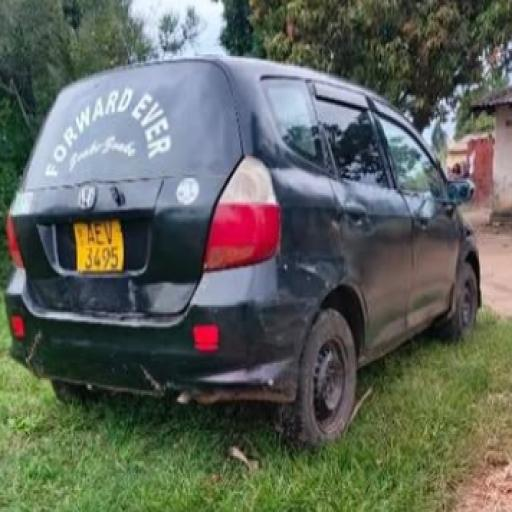number-plates: (70, 219, 125, 271)
